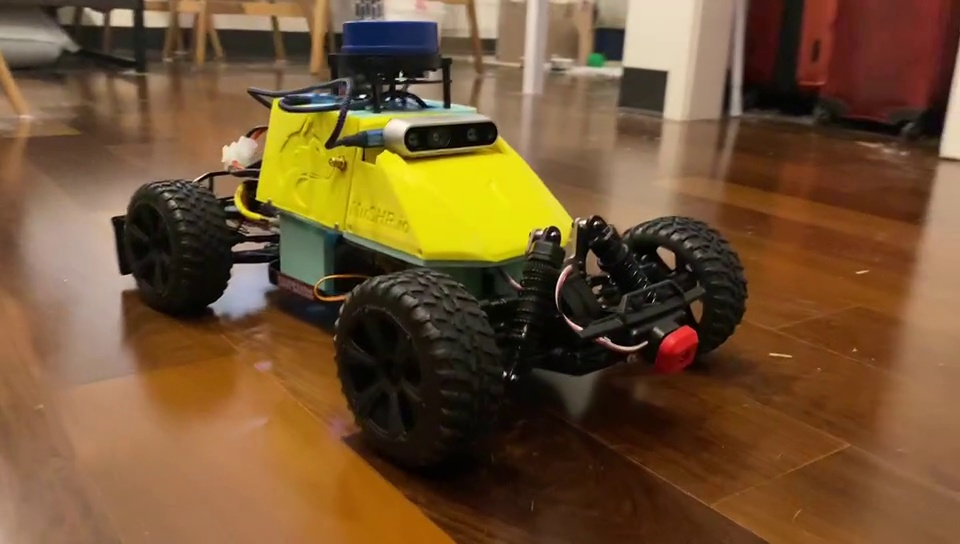mushr_car: (110, 17, 748, 472)
